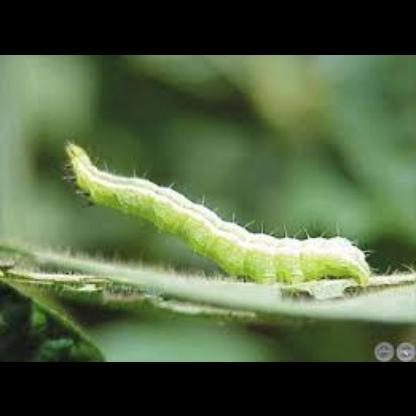oruga: (55, 132, 376, 282)
